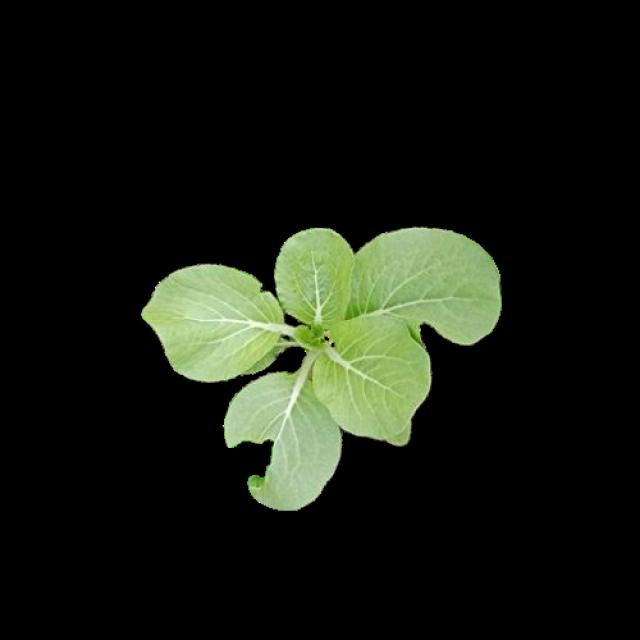not-mature: (144, 226, 502, 510)
unhealthy: (226, 375, 338, 508)
